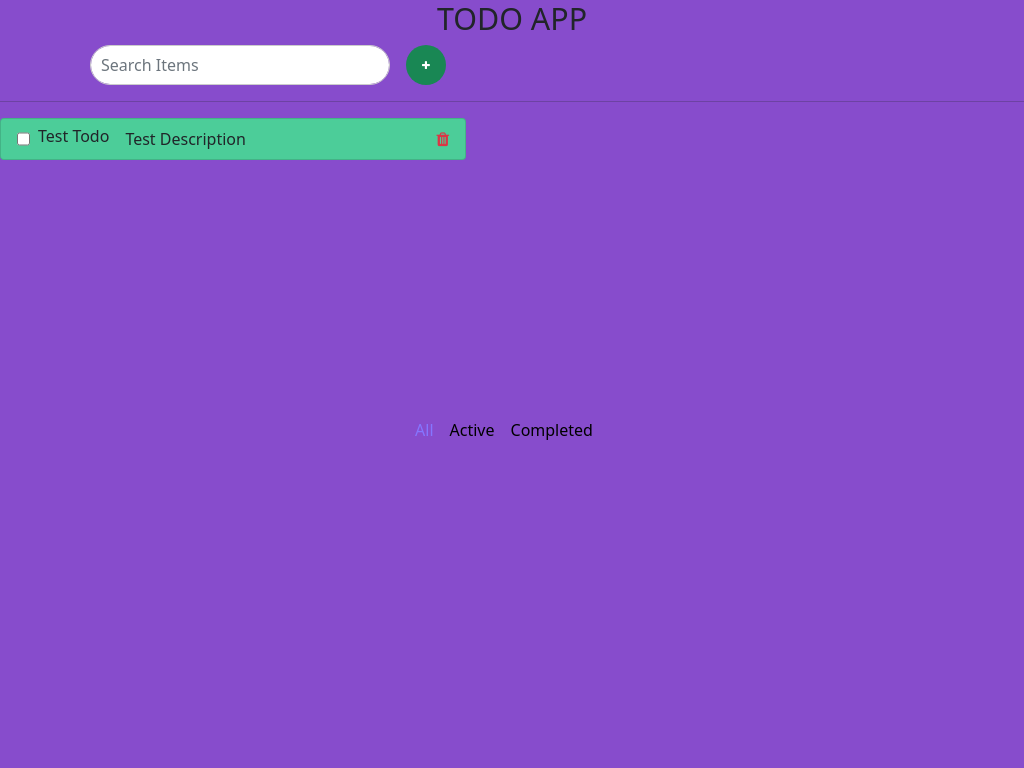
Scenario: should able to add todo
Click the button at (426, 64), box top-left (406, 44), bottom-right (446, 84)
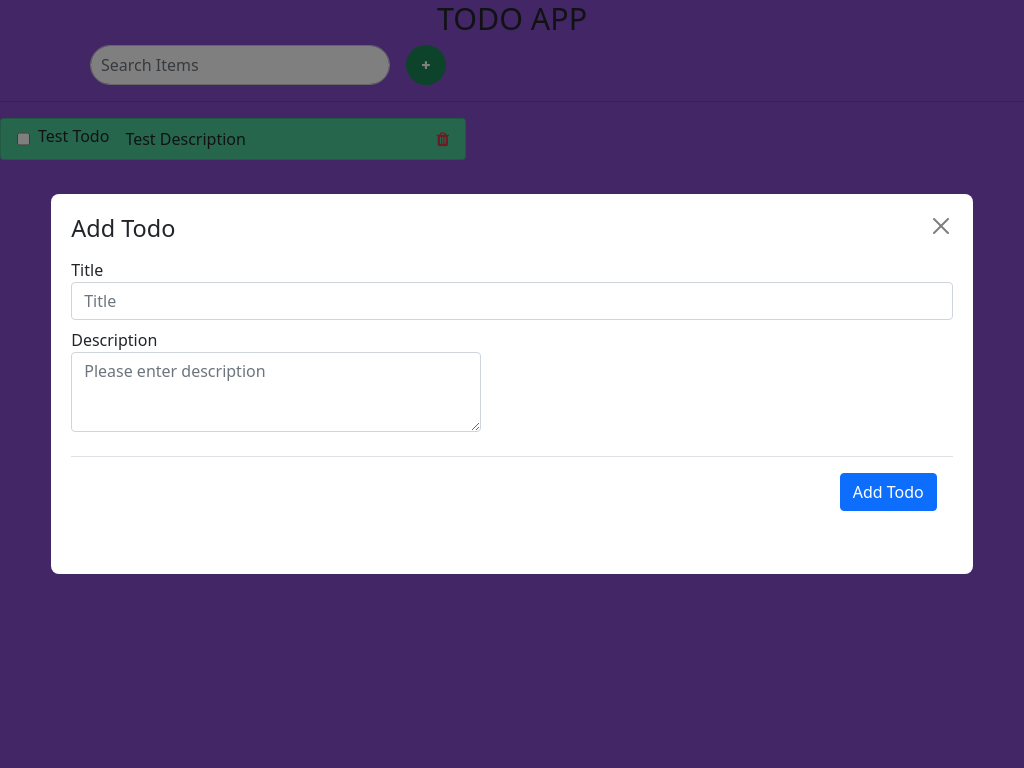
Type "Test Title" into the field with placeholder "Title" at (512, 301), box top-left (71, 282), bottom-right (953, 320)
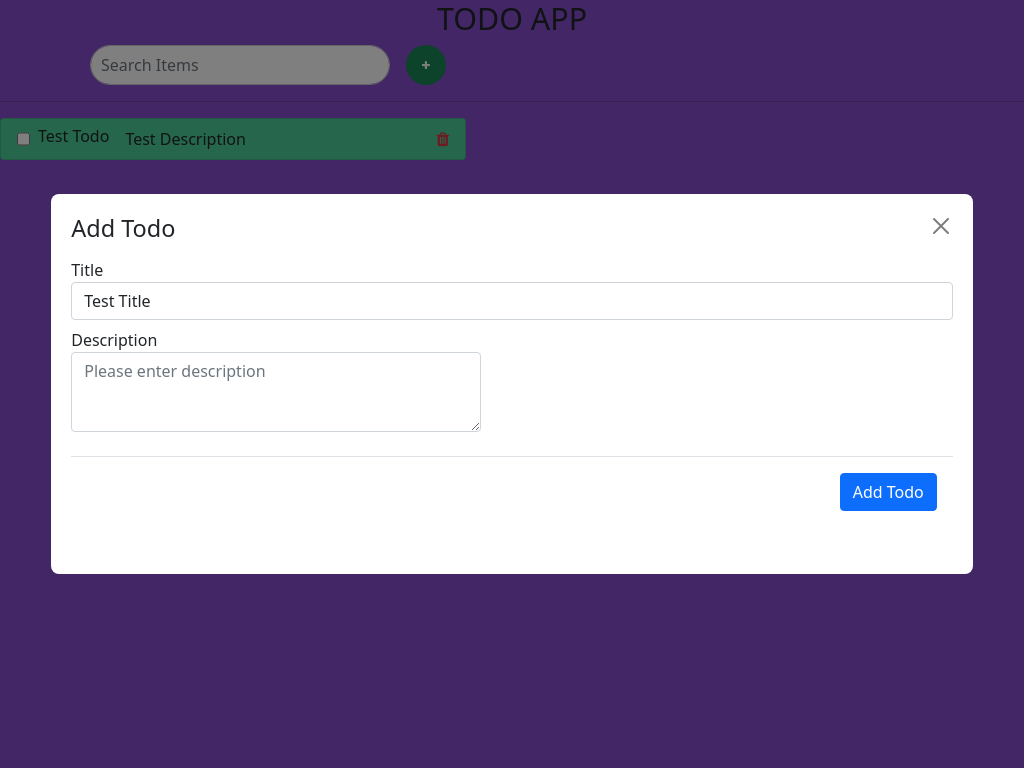
Type "Test Description" into the text box with placeholder "Please enter description" at (276, 392), box top-left (71, 352), bottom-right (481, 432)
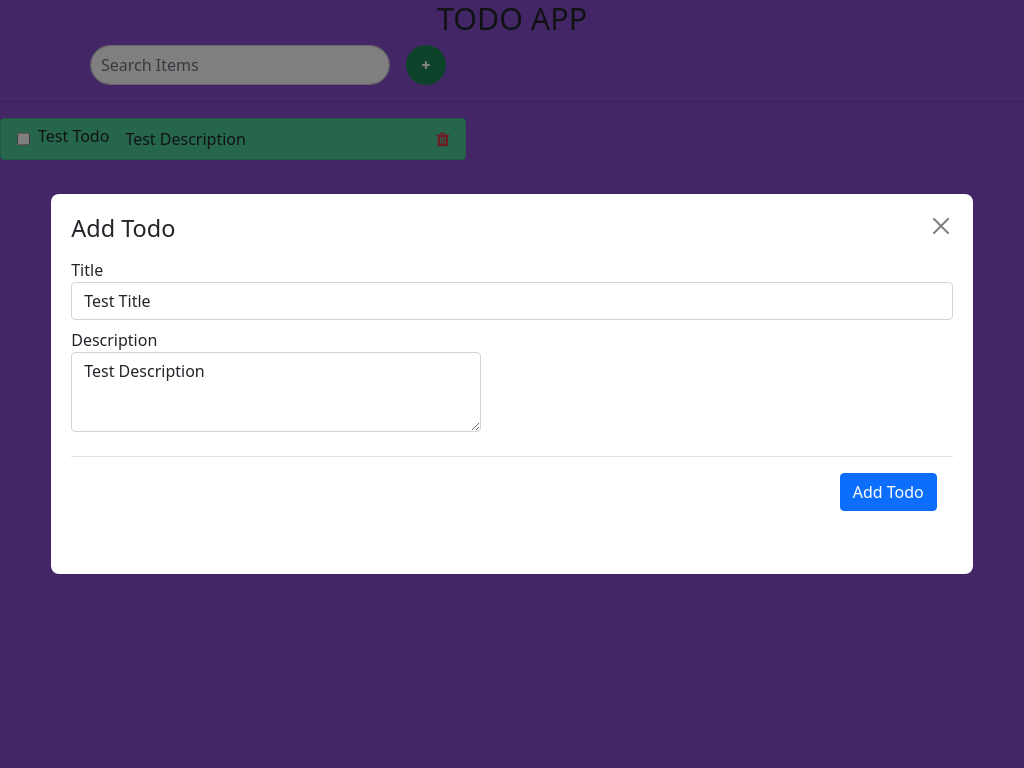
Submit the form with placeholder "Title", box top-left (71, 258), bottom-right (953, 432)
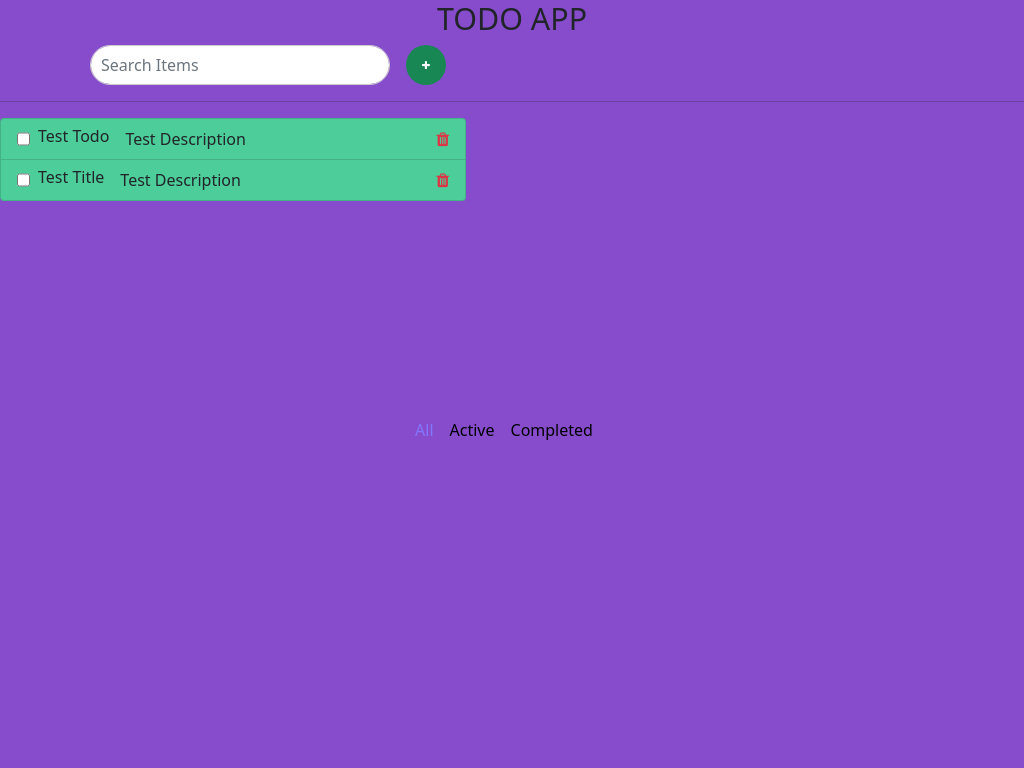
Now the number of list items is 2, box top-left (0, 118), bottom-right (466, 160); top-left (0, 160), bottom-right (466, 200)
